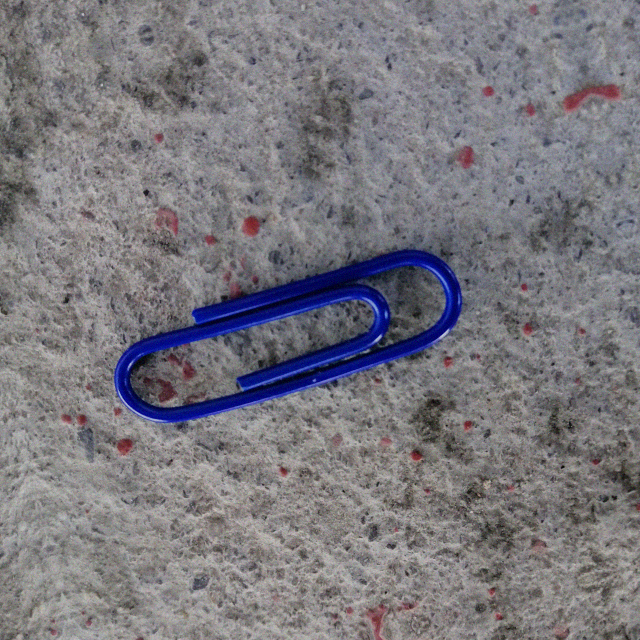pin: (108, 246, 468, 433)
